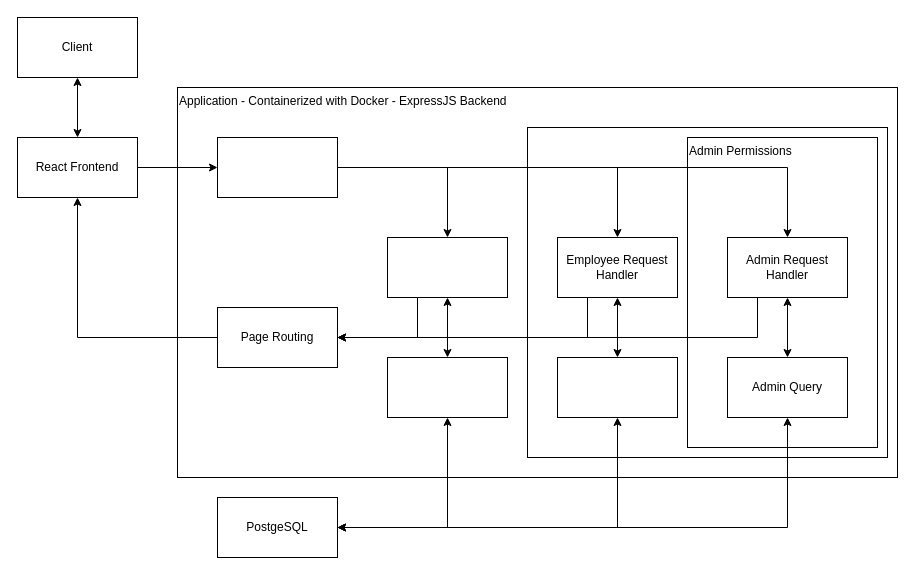
Some shapes in this 915 by 575 pixel diagram are drawn without their labels. Here are the shapes that lost their labels. From the top down, the box of each, then its label:
(216, 136, 338, 198): Authenticator
(386, 236, 508, 298): User Request Handler
(526, 126, 888, 458): Employee Permissions
(386, 356, 508, 418): User Query
(556, 356, 678, 418): Employee Query
